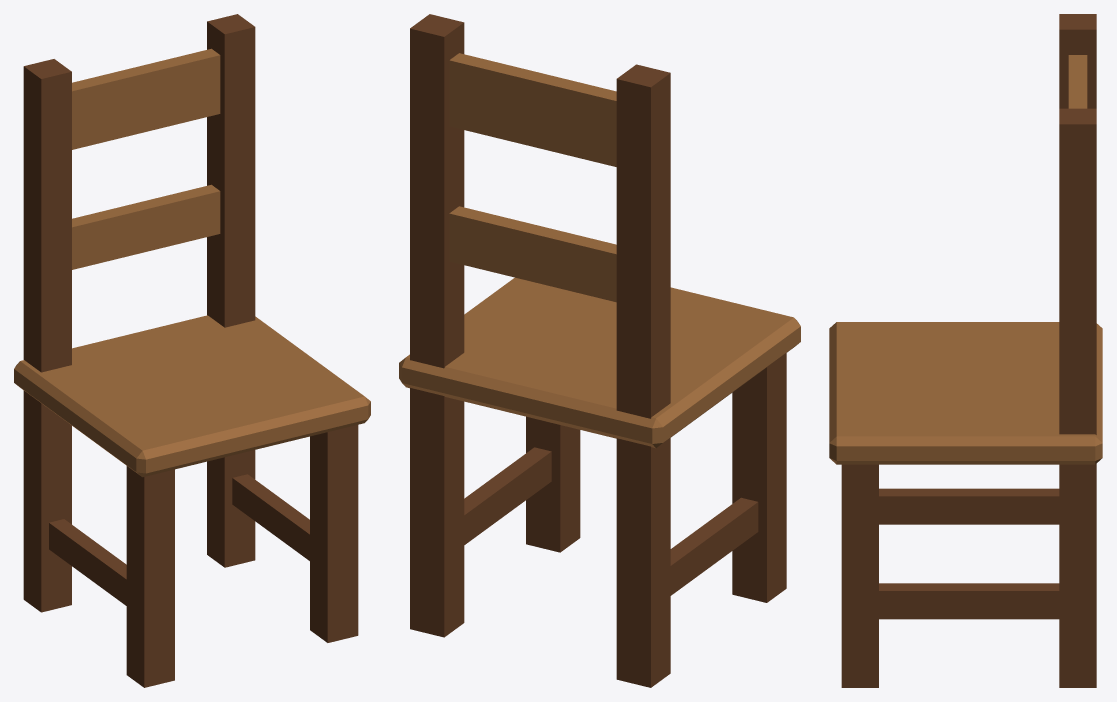
The model's file is chair.glb.
The picture shows the model from 3 angles, left to right: view 1: azimuth 30°, elevation 25°; view 2: azimuth 150°, elevation 25°; view 3: azimuth 270°, elevation 25°; orthographic projection. The views are drawn at different scales.
Parts seen in each view (by area): view 1: Chair posts, Chair seat, Chair legs, Chair slats, Chair stretchers; view 2: Chair posts, Chair seat, Chair slats, Chair legs, Chair stretchers; view 3: Chair seat, Chair posts, Chair stretchers, Chair legs, Chair slats.
Part boxes in pixels (bbox=[...]): Chair posts: bbox=[23, 14, 255, 612]; Chair seat: bbox=[14, 315, 370, 477]; Chair legs: bbox=[126, 425, 358, 687]; Chair slats: bbox=[72, 48, 220, 269]; Chair stretchers: bbox=[49, 474, 309, 605]; Chair posts: bbox=[410, 14, 670, 687]; Chair seat: bbox=[399, 277, 800, 448]; Chair slats: bbox=[449, 53, 616, 302]; Chair legs: bbox=[526, 353, 786, 602]; Chair stretchers: bbox=[464, 447, 758, 595]; Chair seat: bbox=[829, 322, 1102, 464]; Chair posts: bbox=[1059, 14, 1096, 687]; Chair stretchers: bbox=[879, 488, 1059, 619]; Chair legs: bbox=[841, 464, 878, 687]; Chair slats: bbox=[1068, 55, 1087, 108].
Bounding box in the file's own units: 0.46 × 1 × 0.44.
